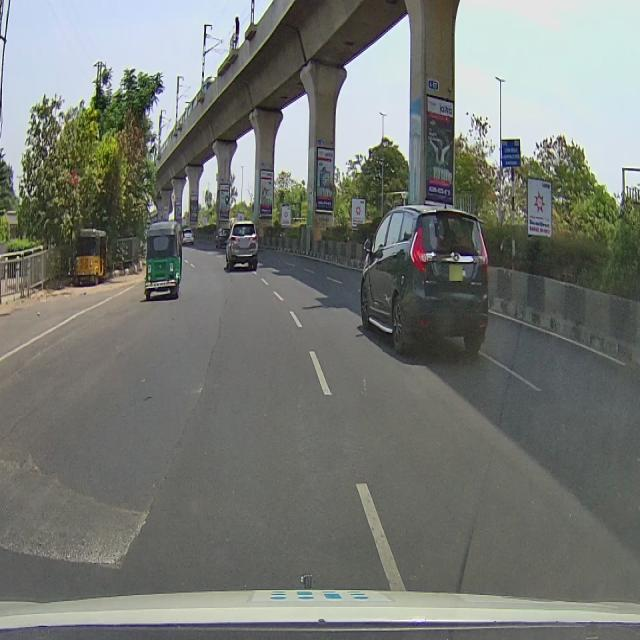auto ahead at: (142, 215, 181, 308), (71, 222, 111, 289)
car ahead at: (359, 190, 490, 368), (223, 214, 260, 268)
